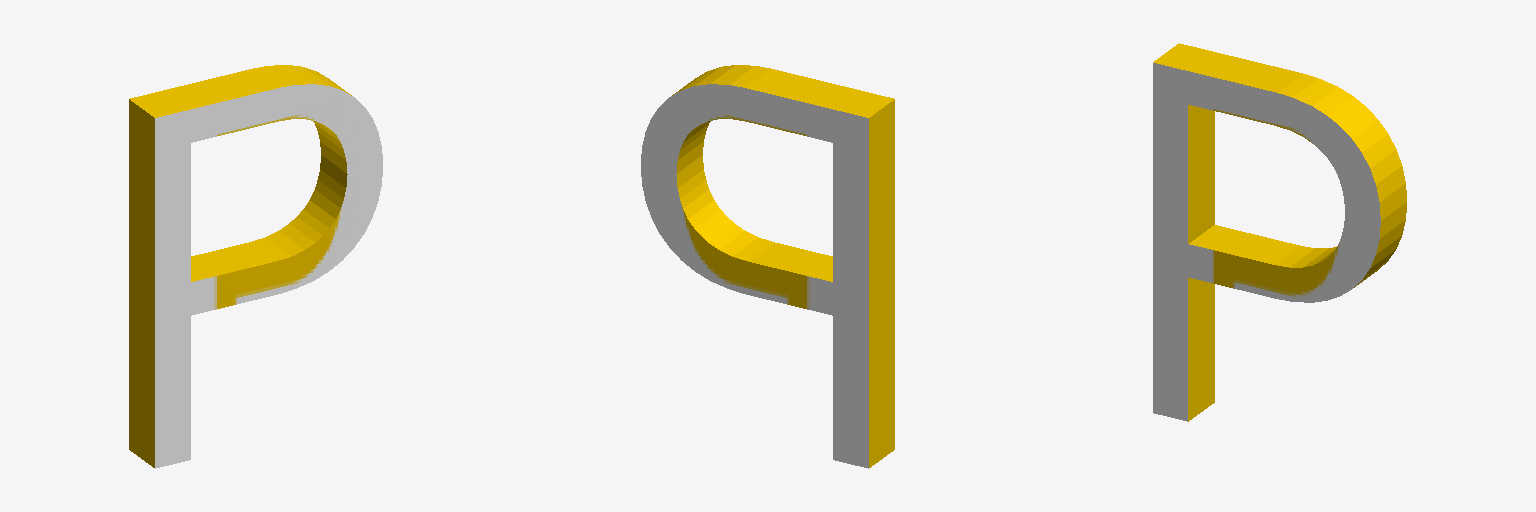
The picture shows the model from 3 angles: view 1: azimuth 30°, elevation 25°; view 2: azimuth 150°, elevation 25°; view 3: azimuth 330°, elevation 25°; orthographic projection.
Bounding box in the file's own units: 54.92 × 80.63 × 10.98.
Materials: 5 (1 with a texture image).